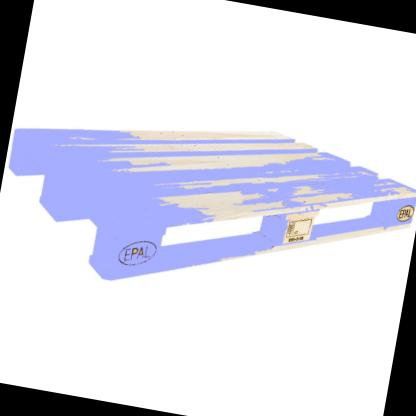BoxFace: (8, 125, 416, 290)
